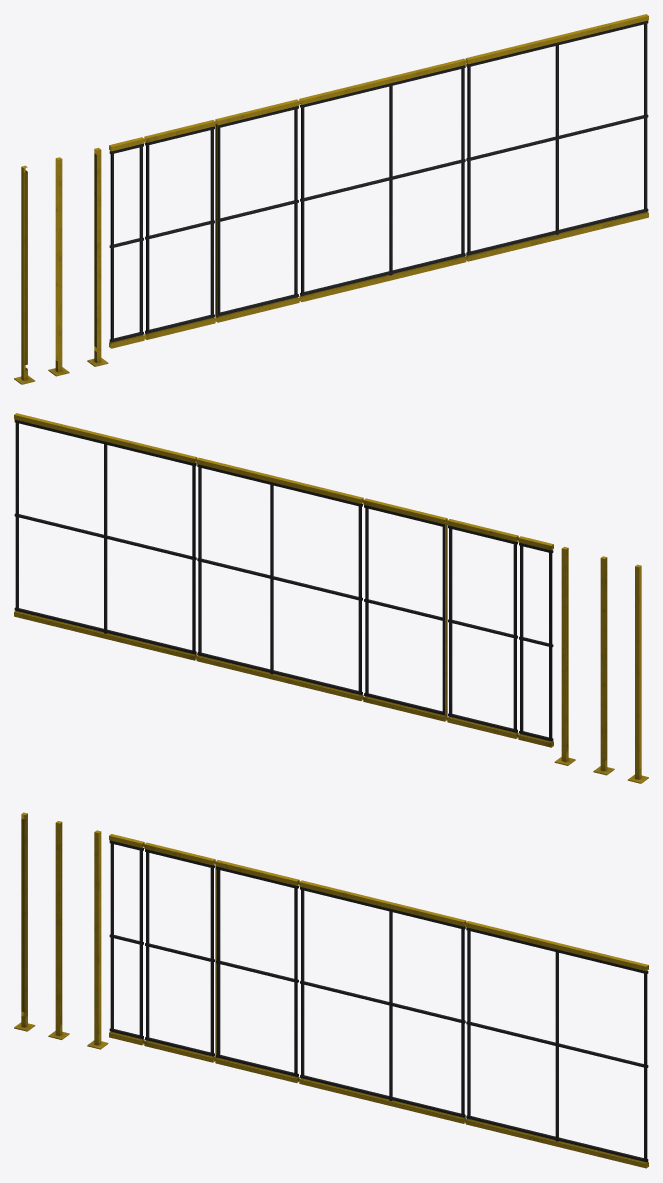
File: Cage_Modules.fbx
3 views of the same model, one above another, from view 1: azimuth 30°, elevation 25°; view 2: azimuth 150°, elevation 25°; view 3: azimuth 330°, elevation 25° (orthographic).
Parts seen in each view (by area): view 1: Cage_Wall05, Cage_Wall04, Cage_Wall03, Cage_Wall02, Cage_Wall01, Cage_Holder_Inner, Cage_Holder_End, Cage_Holder_Corner; view 2: Cage_Wall05, Cage_Wall04, Cage_Wall03, Cage_Wall02, Cage_Wall01, Cage_Holder_Inner, Cage_Holder_End, Cage_Holder_Corner; view 3: Cage_Wall05, Cage_Wall04, Cage_Wall03, Cage_Wall02, Cage_Wall01, Cage_Holder_End, Cage_Holder_Inner, Cage_Holder_Corner.
Boxes of the visible parts, x1,y1,x2,y2 form: Cage_Wall05: [465, 14, 648, 261]; Cage_Wall04: [299, 58, 466, 301]; Cage_Wall03: [215, 99, 299, 322]; Cage_Wall02: [144, 120, 215, 339]; Cage_Wall01: [109, 137, 144, 348]; Cage_Holder_Inner: [48, 157, 69, 376]; Cage_Holder_End: [87, 147, 108, 366]; Cage_Holder_Corner: [14, 165, 35, 384]; Cage_Wall05: [14, 413, 197, 660]; Cage_Wall04: [196, 457, 363, 700]; Cage_Wall03: [363, 498, 447, 721]; Cage_Wall02: [447, 519, 518, 738]; Cage_Wall01: [518, 536, 553, 747]; Cage_Holder_Inner: [593, 556, 614, 775]; Cage_Holder_End: [554, 546, 575, 765]; Cage_Holder_Corner: [627, 564, 648, 783]; Cage_Wall05: [465, 921, 648, 1168]; Cage_Wall04: [299, 880, 466, 1123]; Cage_Wall03: [215, 860, 299, 1082]; Cage_Wall02: [144, 842, 215, 1062]; Cage_Wall01: [109, 834, 144, 1045]; Cage_Holder_End: [87, 830, 108, 1049]; Cage_Holder_Inner: [48, 821, 69, 1039]; Cage_Holder_Corner: [14, 812, 35, 1031].
Size of the model in its own units: 618 by 200 by 13.18.
